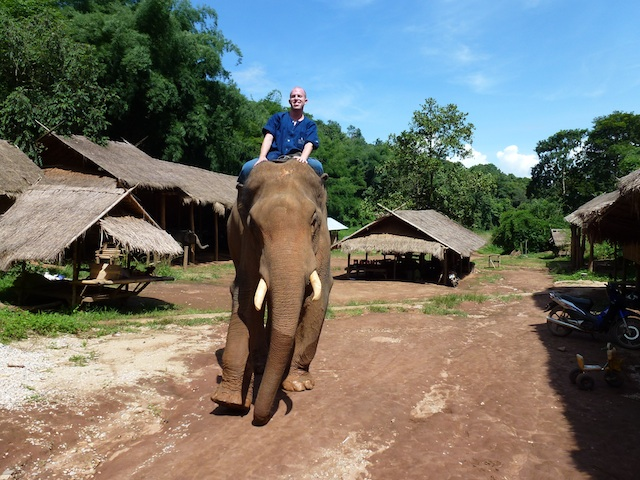elephant: (203, 149, 349, 435)
